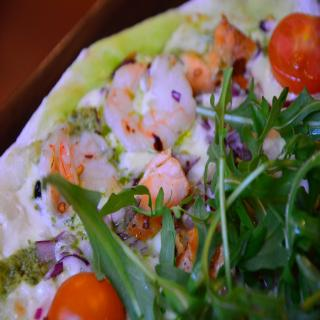tomato: (268, 12, 320, 94), (47, 272, 124, 319)
